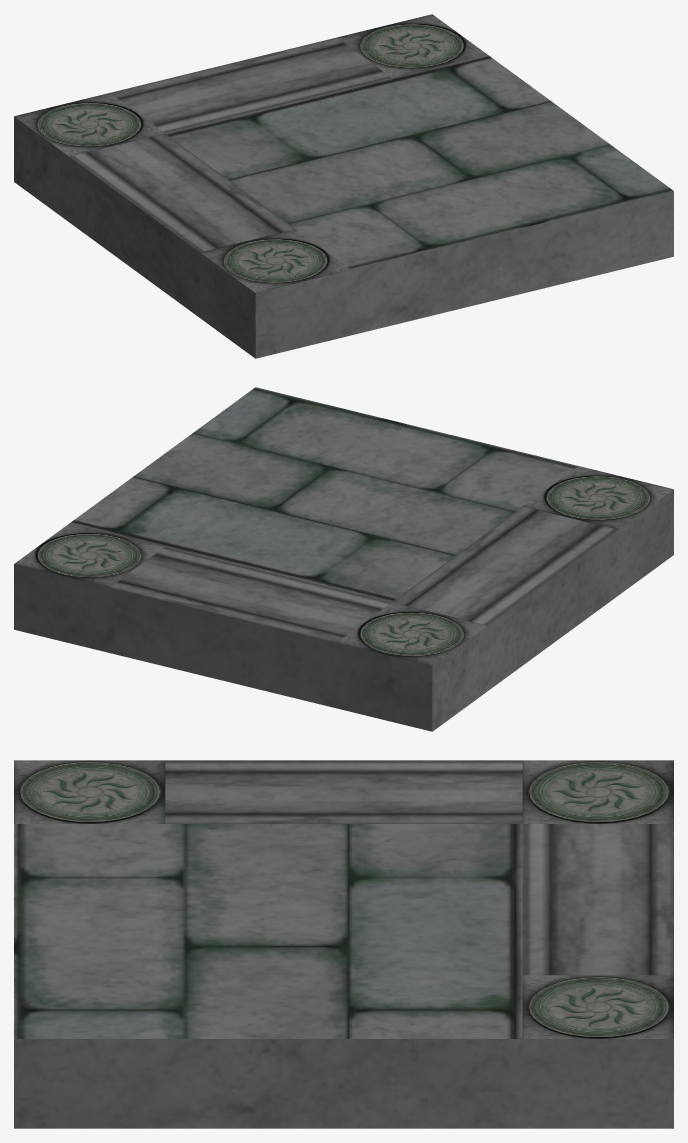
File: floor_small_cornertrim_TL_01.glb
The picture shows the model from 3 angles, top to bottom: view 1: azimuth 30°, elevation 25°; view 2: azimuth 150°, elevation 25°; view 3: azimuth 270°, elevation 25°; orthographic projection. The views are drawn at different scales.
Visible parts, largest first — view 1: floor_small_cornertrim_TL_01; view 2: floor_small_cornertrim_TL_01; view 3: floor_small_cornertrim_TL_01.
Boxes of the visible parts, x1=… form: floor_small_cornertrim_TL_01: x1=14, y1=14, x2=673, y2=358; floor_small_cornertrim_TL_01: x1=14, y1=387, x2=673, y2=731; floor_small_cornertrim_TL_01: x1=14, y1=760, x2=673, y2=1128.
Bounding box in the file's own units: 2 × 0.3 × 2.
1 material, 1 textured.
